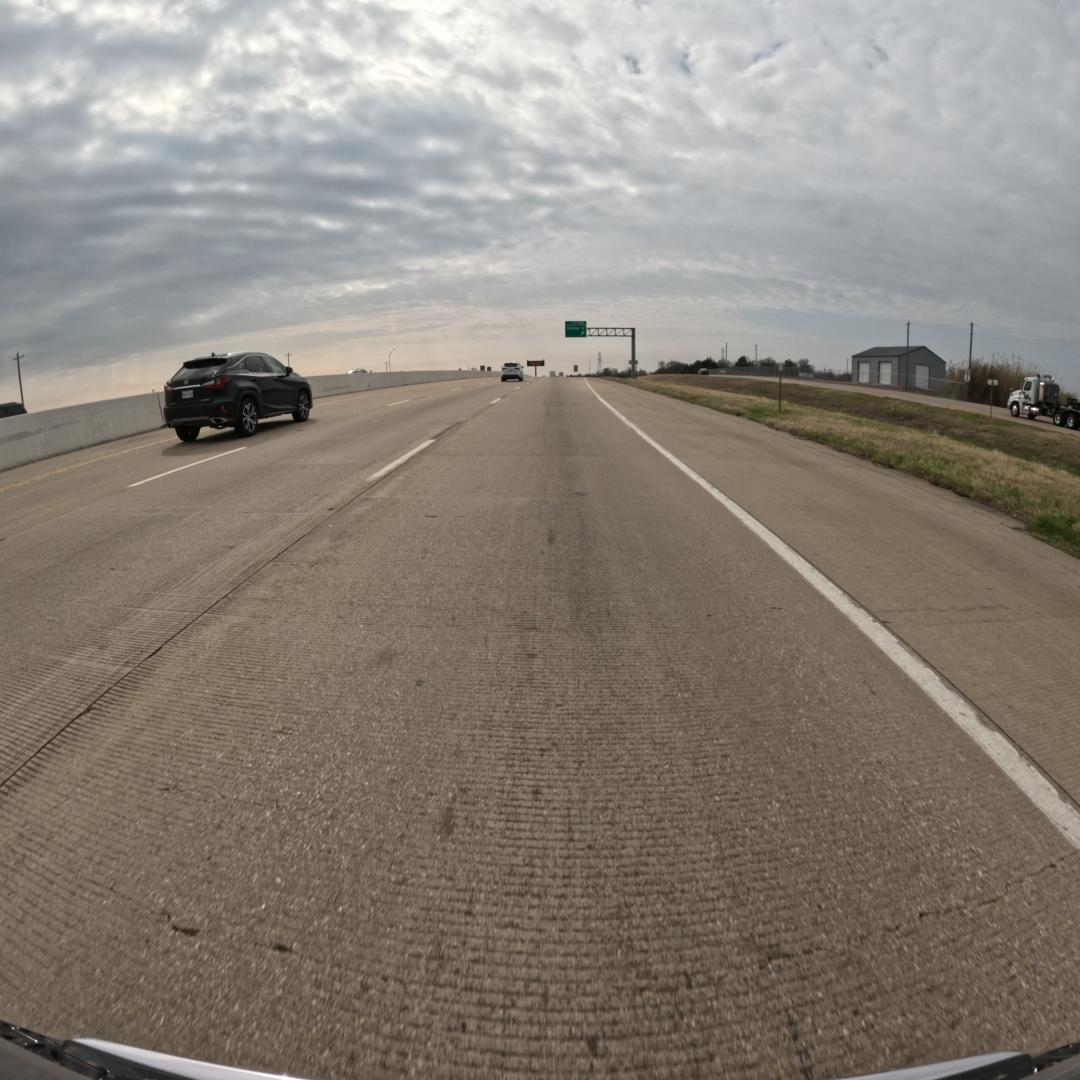lane0: (0, 383, 1080, 1076)
lane1: (0, 384, 521, 785)
